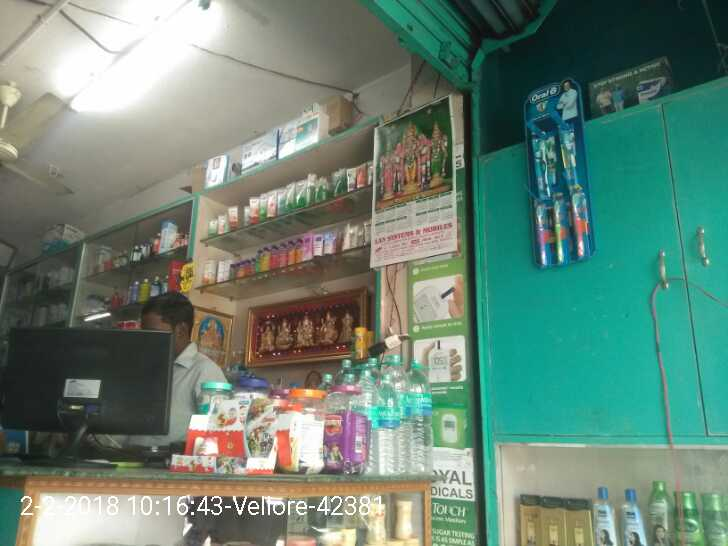oralb: (569, 190, 599, 263), (529, 130, 554, 195), (528, 198, 551, 266), (560, 129, 583, 187), (548, 194, 567, 263)
